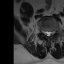CCS_stenosis: (47, 28, 49, 38)
LFS_normal: (52, 29, 54, 36)
LLS_normal: (49, 29, 52, 37)
RFS_normal: (42, 28, 45, 35)
RLS_normal: (45, 29, 47, 37)
